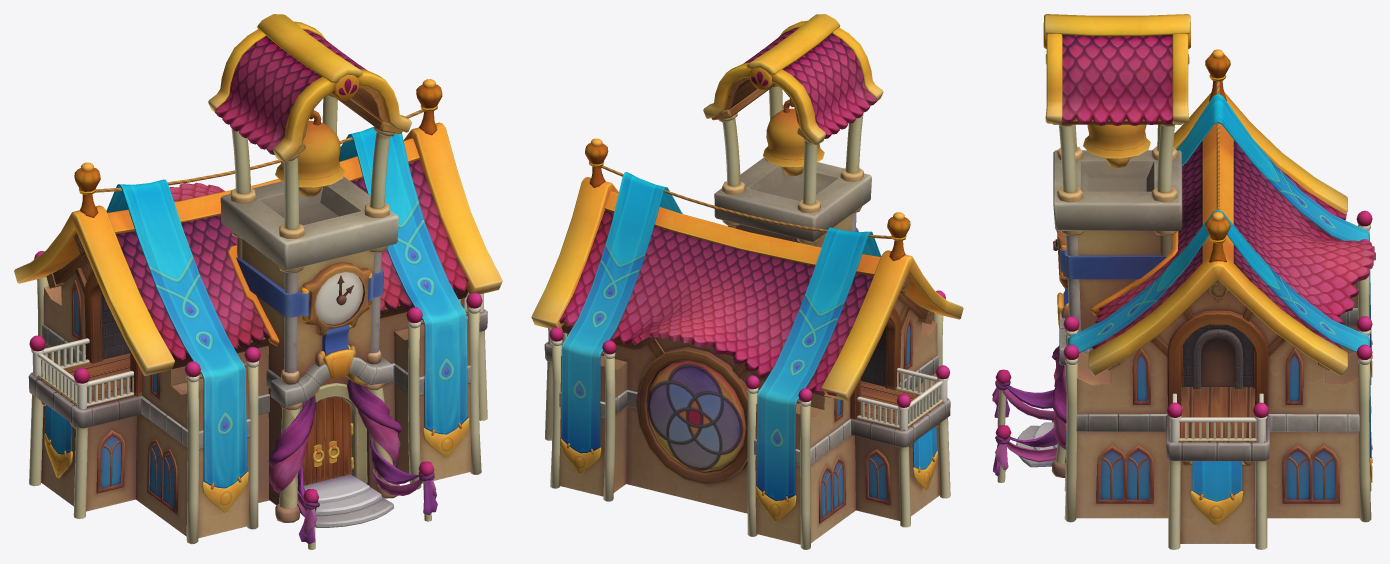
The model's file is SE_TownHall_01.fbx.
3 renders of one model, left to right at view 1: azimuth 30°, elevation 25°; view 2: azimuth 150°, elevation 25°; view 3: azimuth 270°, elevation 25°, orthographic. The views are drawn at different scales.
Parts seen in each view (by area): view 1: SE_TownHall_01; view 2: SE_TownHall_01; view 3: SE_TownHall_01.
Boxes of the visible parts, <box> form: SE_TownHall_01: <box>14,14,502,549</box>; SE_TownHall_01: <box>531,14,963,549</box>; SE_TownHall_01: <box>992,14,1375,549</box>.
Size of the model in its own units: 30.56 by 31.82 by 25.3.
